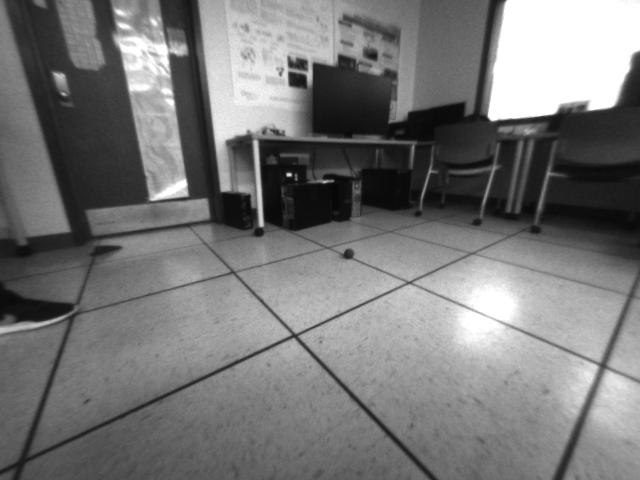dogtoy: (336, 240, 362, 265)
